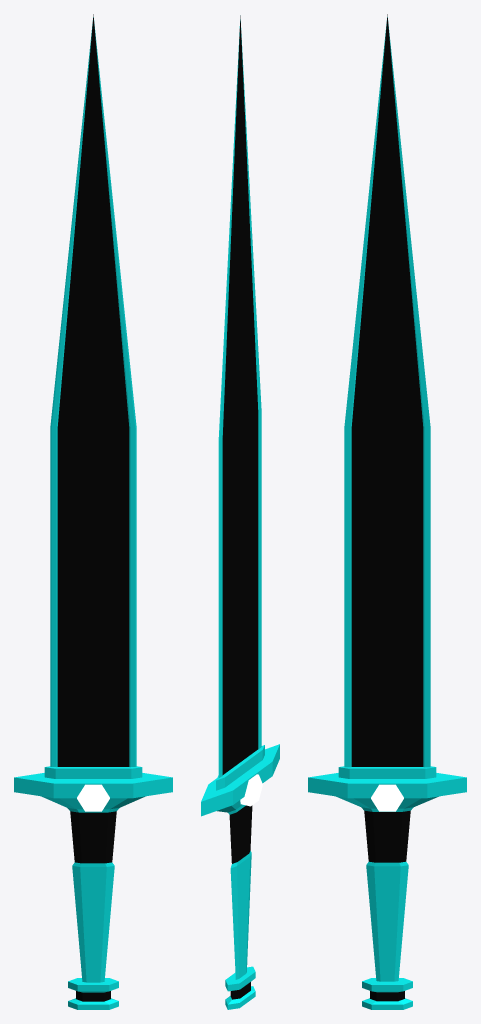
The picture shows the model from 3 angles, left to right: view 1: azimuth 90°, elevation 25°; view 2: azimuth 150°, elevation 25°; view 3: azimuth 270°, elevation 25°; orthographic projection.
Visible parts, largest first — view 1: Cylinder, Cylinder.001; view 2: Cylinder, Cylinder.001; view 3: Cylinder, Cylinder.001.
Boxes of the visible parts, <box> form: Cylinder: <box>14,14,172,1009</box>; Cylinder.001: <box>77,784,109,811</box>; Cylinder: <box>201,15,279,1009</box>; Cylinder.001: <box>240,774,262,806</box>; Cylinder: <box>308,14,466,1009</box>; Cylinder.001: <box>371,784,403,811</box>.
Size of the model in its own units: 200 by 6600 by 958.
